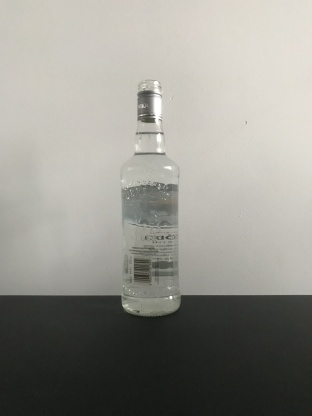nakretka: (135, 78, 164, 123)
